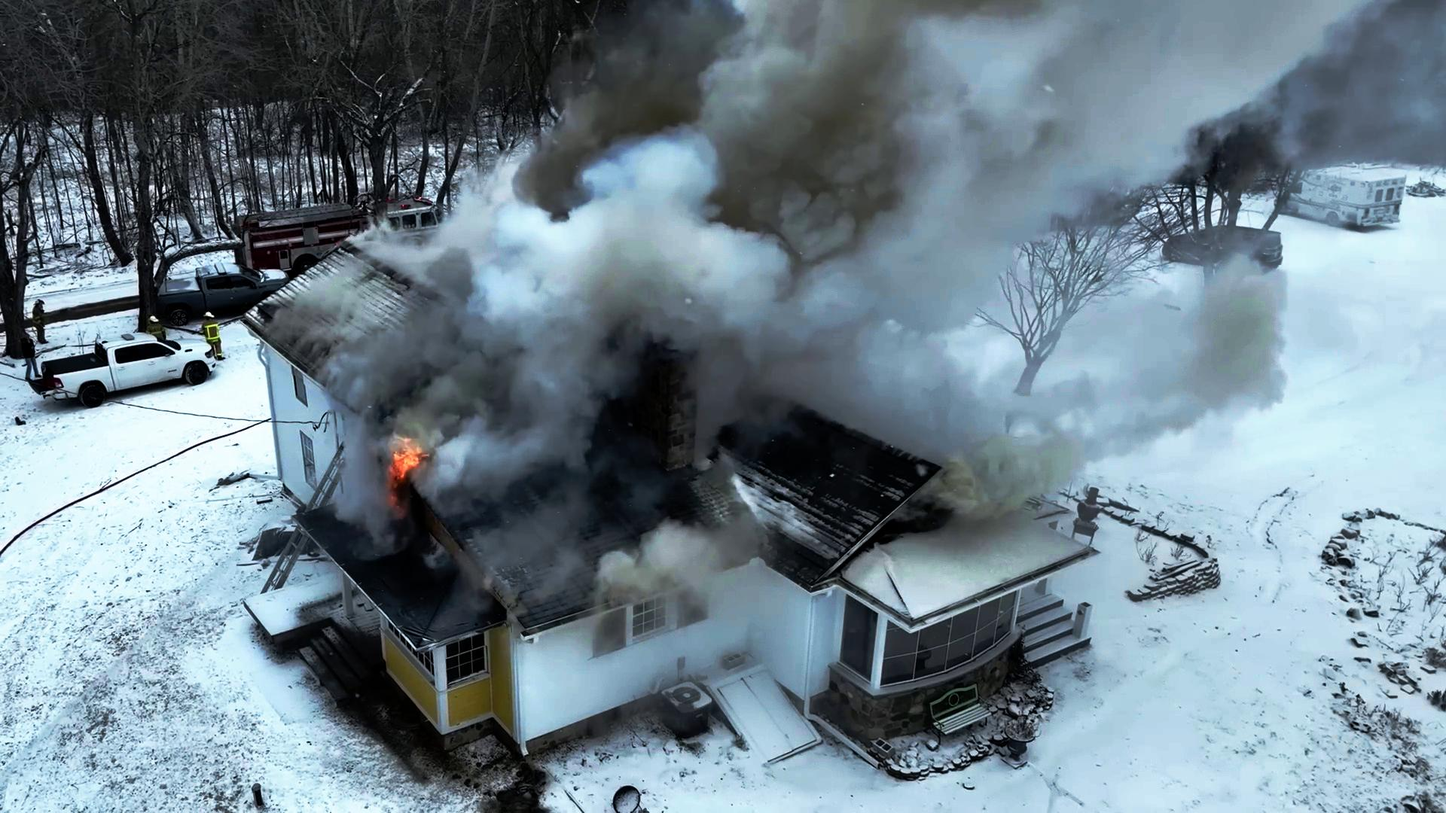smoke: (644, 0, 1085, 235), (467, 189, 636, 512)
